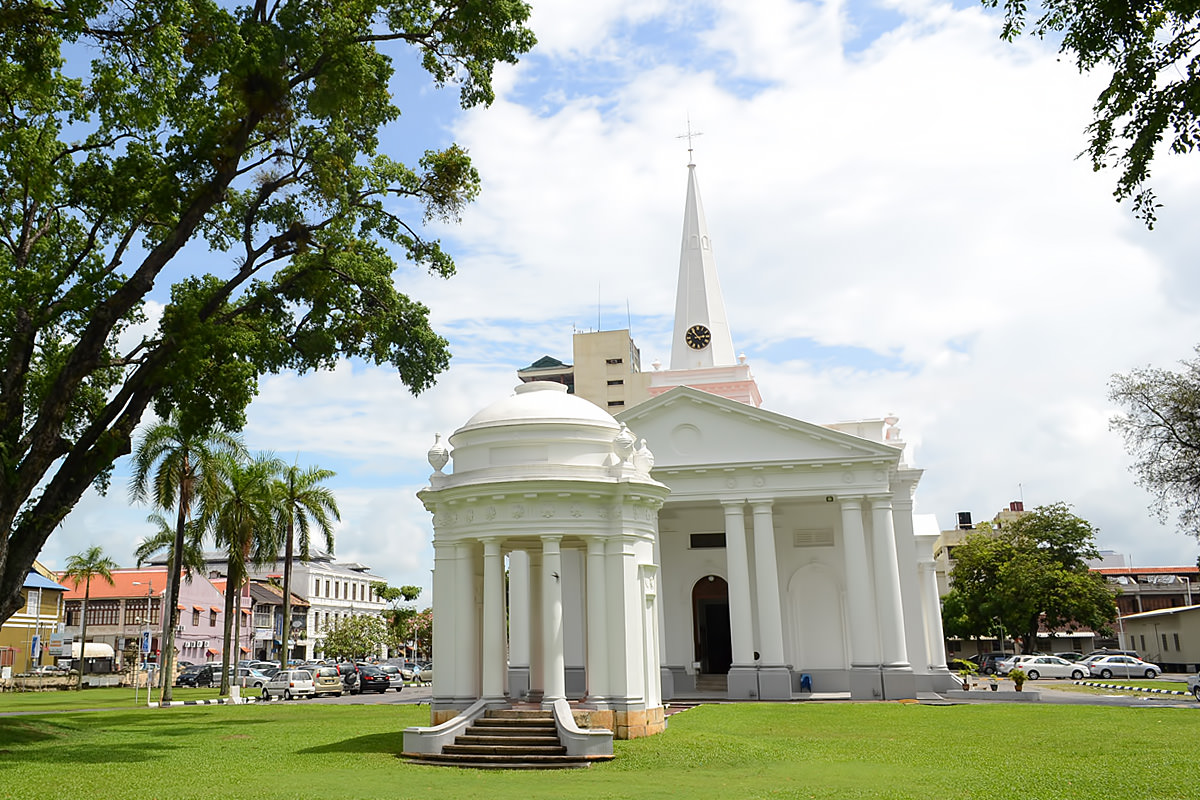Church: (427, 116, 938, 726)
